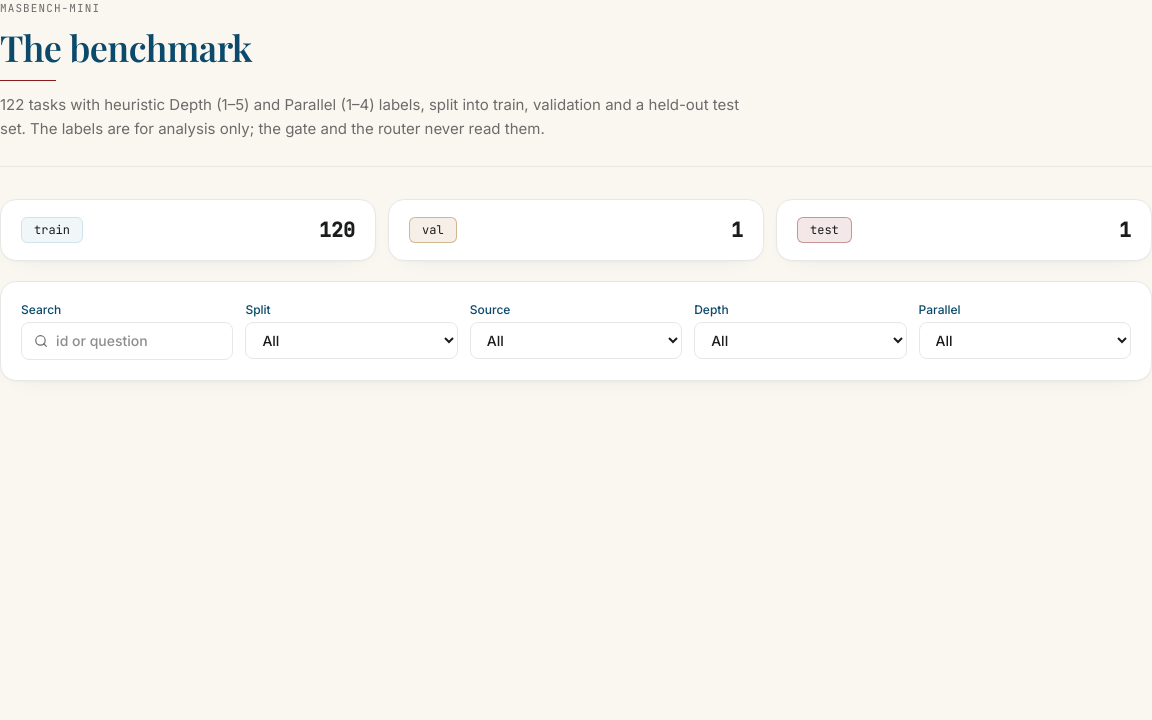
Test: filters by search only after typing pauses
The width and height of the screenshot is (1152, 720).
In the field with placeholder "id or question": (138, 341) [56,331,220,351], type "river"
Wait 200 ms
(page scrolled)
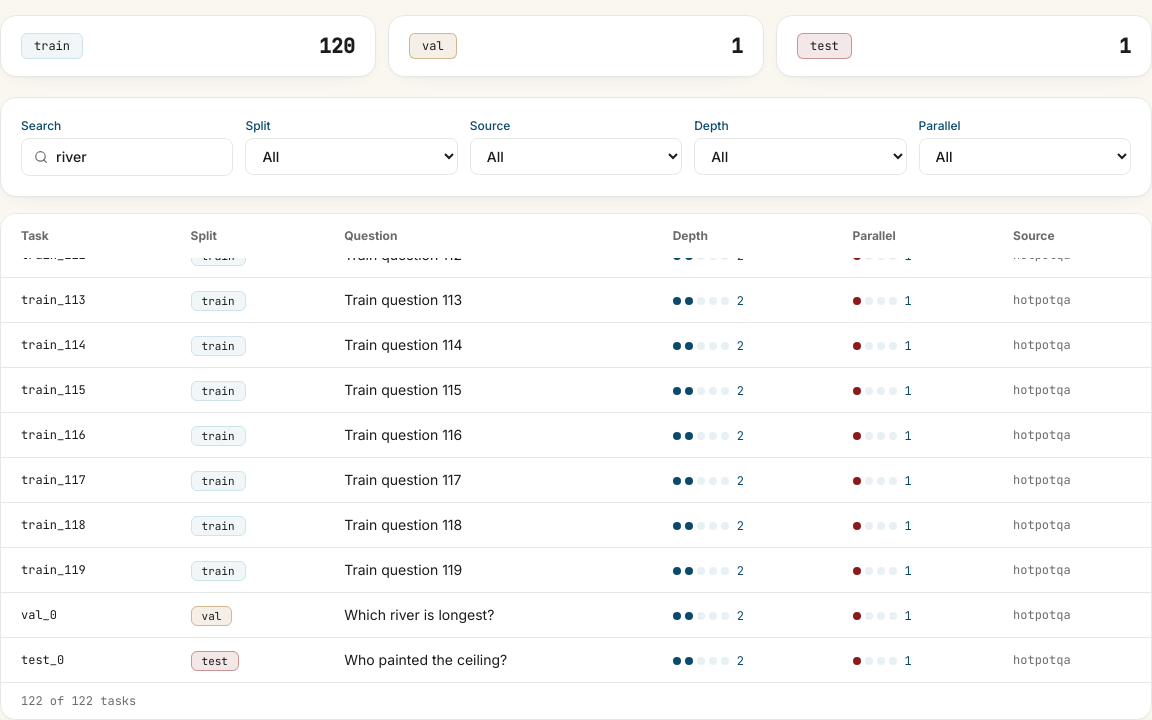
Expected: the text "1 of 122 tasks" is shown, [1,682,1151,719]
Expected: the text "val_0" is shown, [1,592,170,637]
